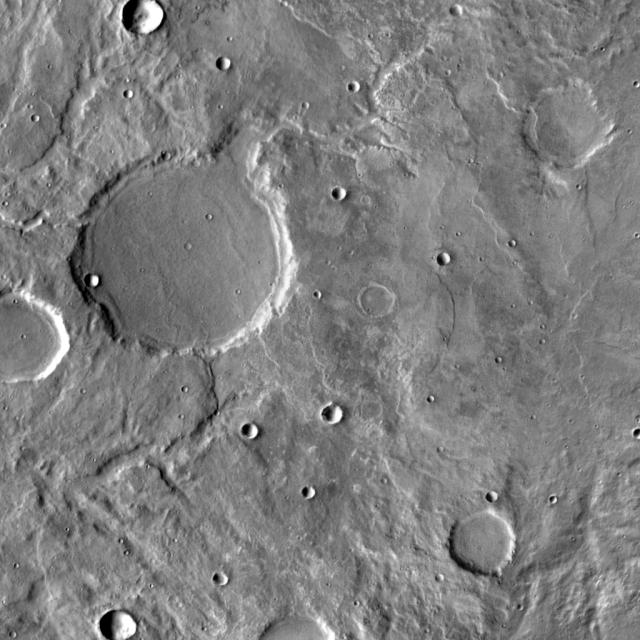crater: (78, 151, 300, 362), (527, 85, 614, 169), (0, 292, 71, 386), (579, 283, 640, 379), (452, 512, 522, 578), (126, 0, 166, 38), (365, 288, 399, 320), (103, 611, 139, 640), (324, 406, 346, 426), (245, 423, 262, 438), (218, 573, 233, 588), (441, 254, 457, 268), (88, 274, 103, 288), (336, 188, 351, 202), (352, 80, 367, 94), (453, 6, 468, 20), (220, 58, 234, 72), (307, 488, 321, 502), (489, 494, 502, 506), (164, 153, 174, 163), (127, 91, 137, 100), (316, 292, 326, 300), (440, 576, 449, 584), (195, 161, 204, 169), (35, 116, 43, 124), (554, 496, 562, 503), (513, 242, 521, 249), (305, 102, 313, 109), (201, 208, 209, 215), (366, 196, 374, 203), (181, 238, 188, 245), (491, 352, 498, 358), (5, 626, 12, 632)
